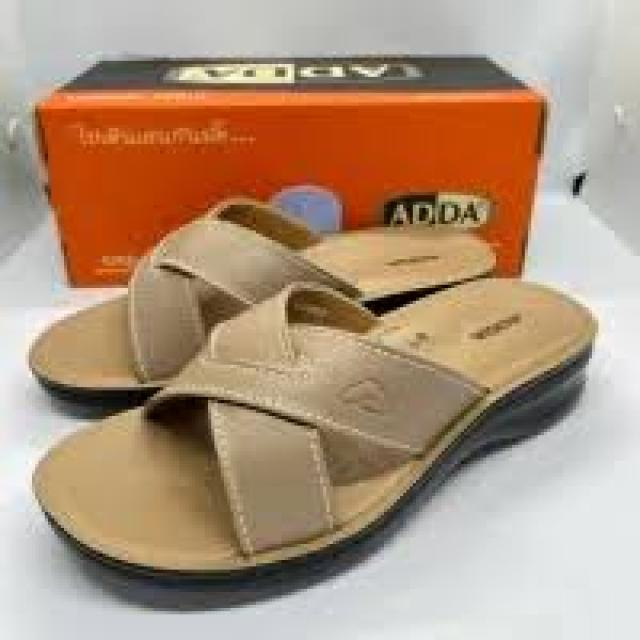shoe: (22, 208, 594, 594), (32, 274, 582, 591)
